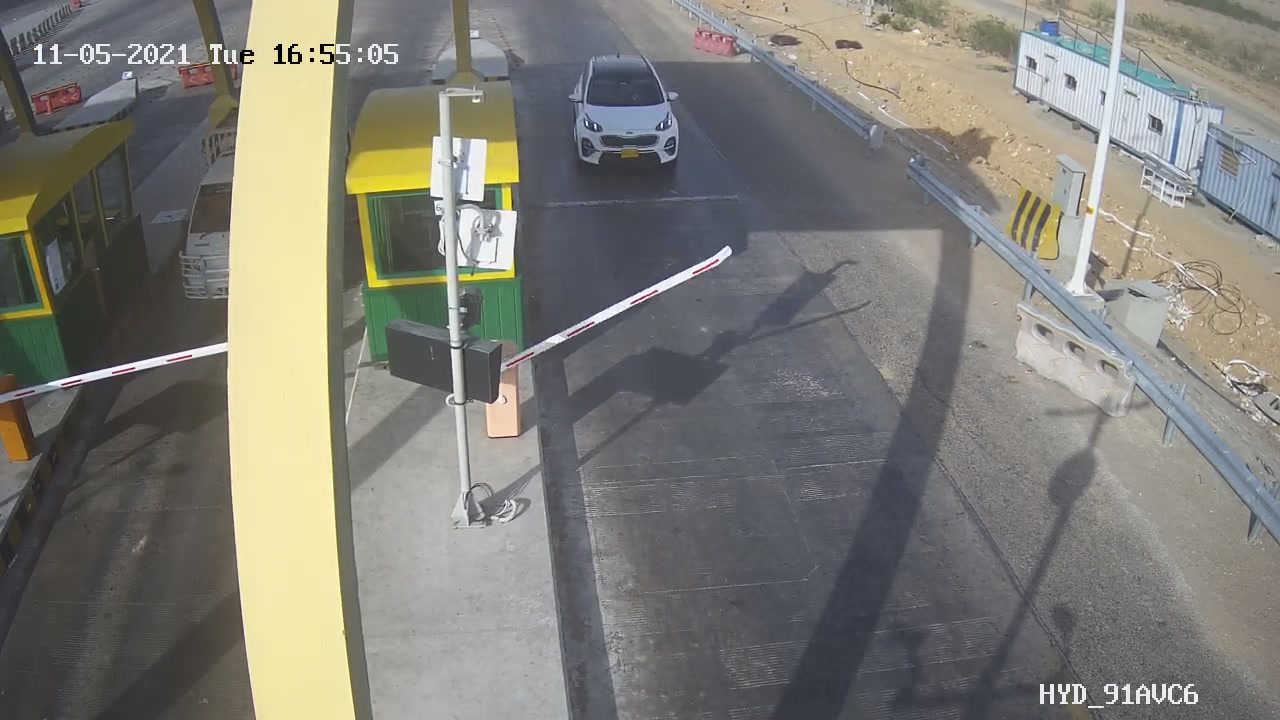F1: (553, 36, 701, 191)
